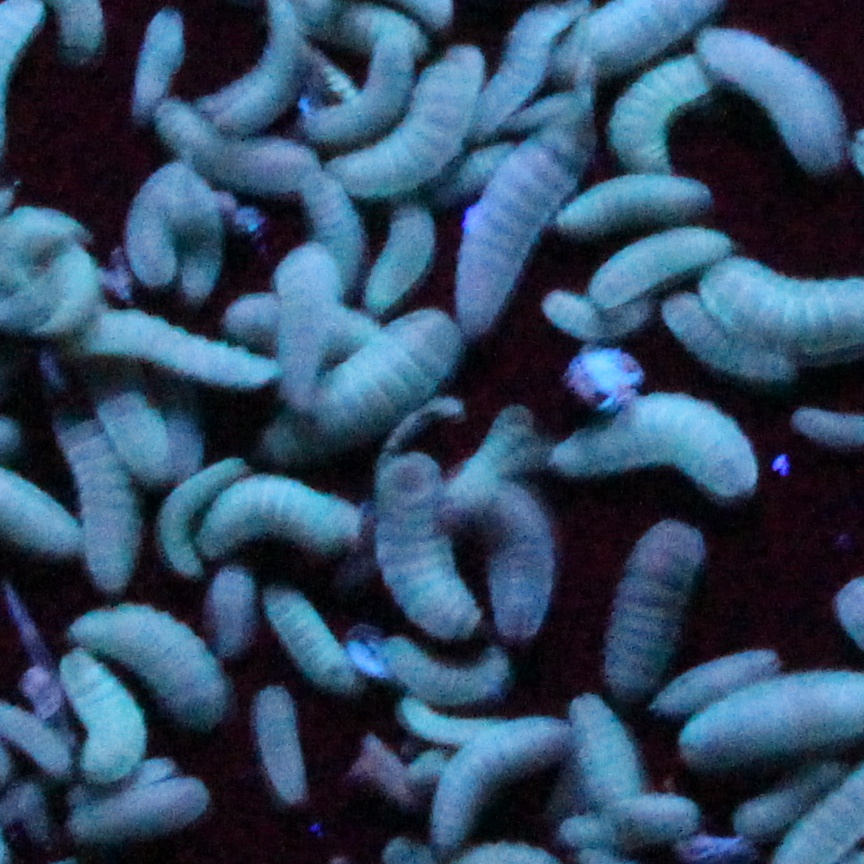larve: (452, 115, 593, 337), (262, 308, 470, 453), (350, 451, 493, 642), (330, 44, 479, 206), (693, 20, 850, 171), (542, 393, 766, 495), (62, 597, 237, 722), (597, 511, 713, 699), (73, 302, 279, 399), (46, 386, 144, 580), (457, 464, 568, 631), (433, 715, 573, 844), (151, 99, 322, 197), (111, 162, 230, 299), (193, 473, 364, 568), (46, 646, 155, 777), (610, 50, 722, 177), (255, 573, 370, 691), (308, 33, 415, 153), (670, 295, 799, 393), (244, 680, 328, 810), (590, 226, 732, 302), (70, 777, 221, 848), (644, 642, 779, 719), (559, 171, 717, 235), (157, 455, 241, 573), (570, 688, 642, 819), (279, 240, 337, 402), (386, 633, 517, 700), (568, 791, 710, 846), (364, 202, 432, 304), (541, 288, 664, 344), (304, 173, 359, 282), (131, 4, 186, 111), (204, 557, 257, 653)
